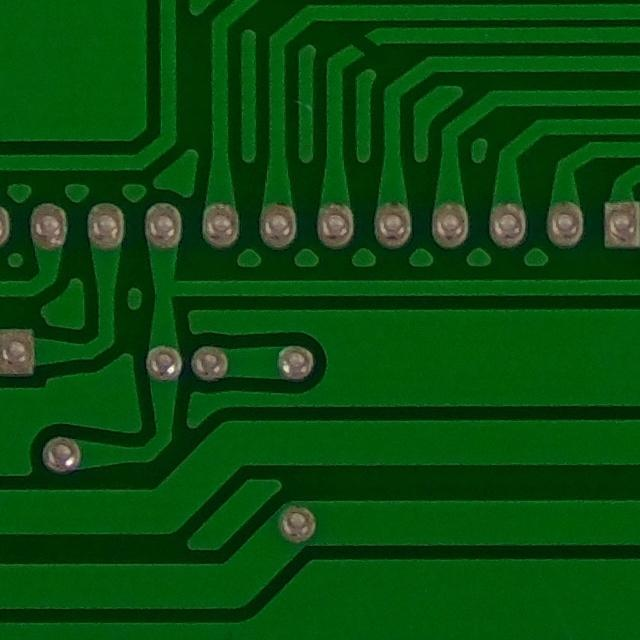open_circuit: (346, 28, 385, 64)
